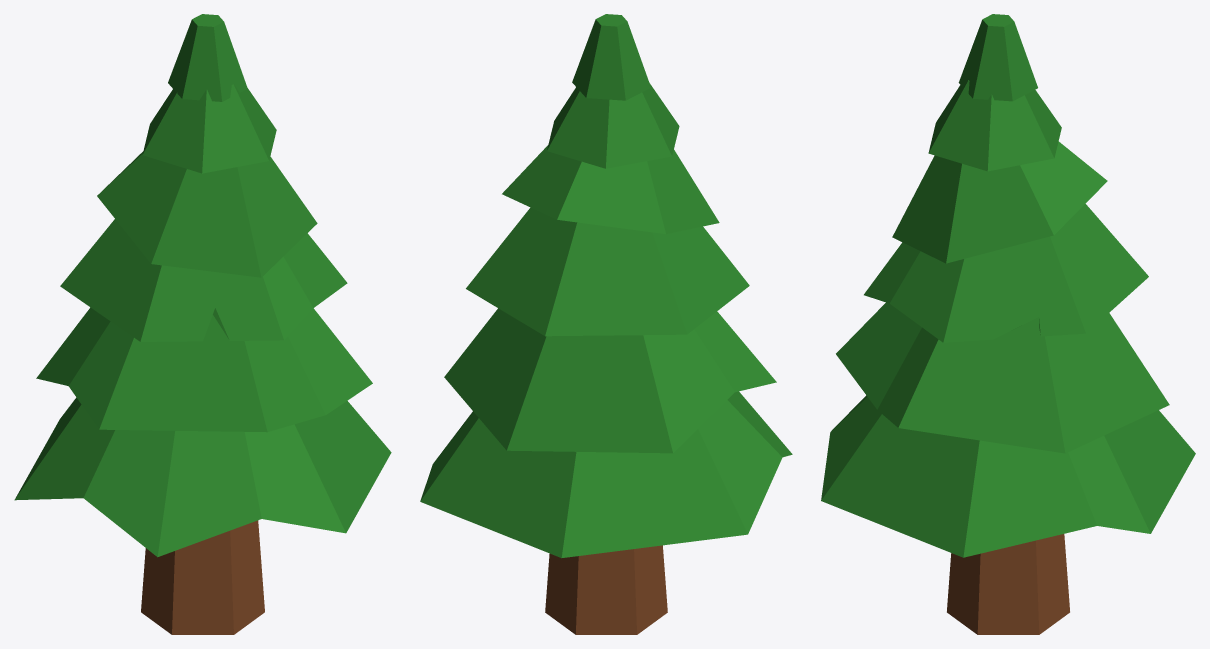
The model's file is Model_ Trees.fbx.
3 renders of one model, left to right at view 1: azimuth 30°, elevation 25°; view 2: azimuth 150°, elevation 25°; view 3: azimuth 270°, elevation 25°, orthographic.
Visible parts, largest first — view 1: Pine Tree; view 2: Pine Tree; view 3: Pine Tree.
Part boxes in pixels (box(x1,y1,x2,y2)): Pine Tree: box(14, 14, 391, 634); Pine Tree: box(420, 14, 792, 634); Pine Tree: box(821, 14, 1195, 634).
Bounding box in the file's own units: 626 × 1074 × 617.
